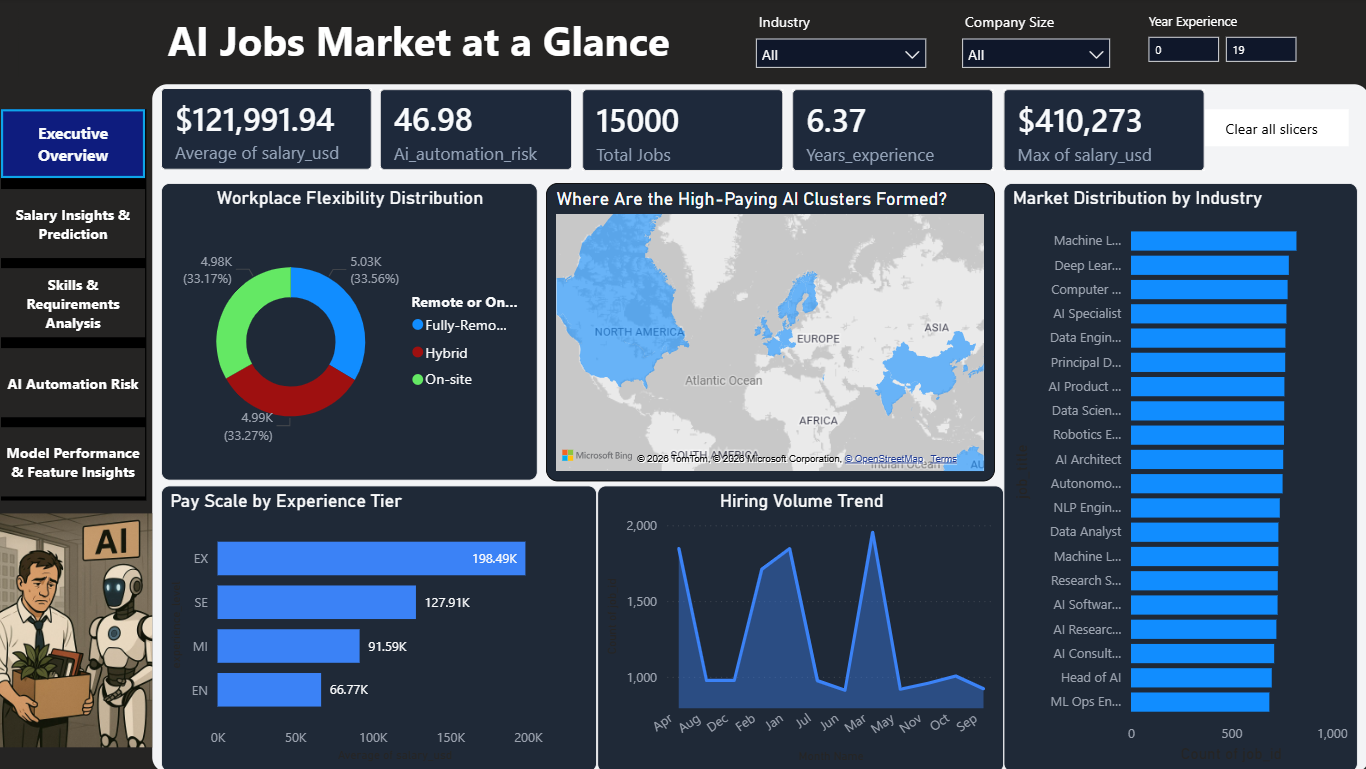

The dashboard page shown, as its layout file describes it:
{"tool":"powerbi","page":{"name":"Executive Overview","canvas":[1280,720],"ordinal":0},"visuals":[{"type":"cardVisual","fields":{"Data":["CountNonNull(ai_jobs_predictions_final.job_id)"]},"box":[200.3,84.5,126.7,71.2],"z":0},{"type":"shape","box":[145.6,80.5,1131.8,640],"z":1000},{"type":"clusteredBarChart","title":"Market Distribution by Industry","fields":{"Category":["ai_jobs_predictions_final.job_title"],"Y":["Count(ai_jobs_predictions_final.job_id)"]},"box":[937.6,172.5,329.6,548],"z":2000},{"type":"clusteredBarChart","title":"Pay Scale by Experience Tier","fields":{"Category":["ai_jobs_predictions_final.experience_level"],"Y":["Avg(ai_jobs_predictions_final.salary_usd)"]},"box":[153.5,453.5,405.8,266.3],"z":3000},{"type":"donutChart","title":"Workplace Flexibility Distribution","fields":{"Y":["CountNonNull(ai_jobs_predictions_final.job_id)"],"Category":["ai_jobs_predictions_final.Remote or Onsite"]},"box":[153.5,172.1,350,276.7],"z":4000},{"type":"areaChart","title":"Hiring Volume Trend","fields":{"Category":["ai_jobs_predictions_final.Month Name"],"Y":["CountNonNull(ai_jobs_predictions_final.job_id)"]},"box":[559.1,454,378.8,267.2],"z":5000},{"type":"slicer","fields":{"Values":["ai_jobs_predictions_final.years_experience"]},"box":[1059.3,8.6,179,79],"z":6000},{"type":"slicer","fields":{"Values":["ai_jobs_predictions_final.company_size"]},"box":[887.9,8.4,158,71.2],"z":7000},{"type":"slicer","fields":{"Values":["ai_jobs_predictions_final.industry"]},"box":[696.1,8.4,178.6,71.2],"z":8000},{"type":"actionButton","box":[1115.2,103.5,143.1,34.5],"z":9000},{"type":"pageNavigator","box":[4.7,103.5,134.9,364],"z":10000},{"type":"textbox","box":[20.9,9,675.9,64.3],"z":11000},{"type":"filledMap","title":"Where Are the High-Paying AI Clusters Formed?","fields":{"Category":["ai_jobs_predictions_final.company_location"],"Series":["ai_jobs_predictions_final.job_title"]},"box":[511.6,172.1,417.4,277.9],"z":12000},{"type":"cardVisual","fields":{"Data":["Avg(ai_jobs_predictions_final.salary_usd)"]},"box":[153.5,83.7,196.7,76.1],"z":13000},{"type":"cardVisual","fields":{"Data":["Avg(ai_jobs_predictions_final.ai_automation_risk)"]},"box":[357,84.9,179.1,75.6],"z":14000},{"type":"cardVisual","fields":{"Data":["Avg(ai_jobs_predictions_final.years_experience)"]},"box":[741,85,187.8,76.1],"z":15000},{"type":"cardVisual","fields":{"Data":["CountNonNull(ai_jobs_predictions_final.job_id)"]},"box":[545.6,85,187.8,76.1],"z":16000},{"type":"cardVisual","fields":{"Data":["Max(ai_jobs_predictions_final.salary_usd)"]},"box":[937.7,85,187.8,76.1],"z":17000},{"type":"image","box":[0,467,145.3,241.3],"z":18000}]}

Visuals, with their boxes in screenshot pixels (x1, y1, x2, y2), scaled from the page's 1280x720 canvas onto the 1366x769 screenshot:
cardVisual - CountNonNull(ai_jobs_predictions_final.job_id): l=214, t=90, r=349, b=166
shape: l=155, t=86, r=1363, b=768
"Market Distribution by Industry" clusteredBarChart: l=1001, t=184, r=1352, b=768
"Pay Scale by Experience Tier" clusteredBarChart: l=164, t=484, r=597, b=768
"Workplace Flexibility Distribution" donutChart: l=164, t=184, r=537, b=479
"Hiring Volume Trend" areaChart: l=597, t=485, r=1001, b=768
slicer - ai_jobs_predictions_final.years_experience: l=1130, t=9, r=1321, b=94
slicer - ai_jobs_predictions_final.company_size: l=948, t=9, r=1116, b=85
slicer - ai_jobs_predictions_final.industry: l=743, t=9, r=933, b=85
actionButton: l=1190, t=111, r=1343, b=147
pageNavigator: l=5, t=111, r=149, b=499
textbox: l=22, t=10, r=744, b=78
"Where Are the High-Paying AI Clusters Formed?" filledMap: l=546, t=184, r=991, b=481
cardVisual - Avg(ai_jobs_predictions_final.salary_usd): l=164, t=89, r=374, b=171
cardVisual - Avg(ai_jobs_predictions_final.ai_automation_risk): l=381, t=91, r=572, b=171
cardVisual - Avg(ai_jobs_predictions_final.years_experience): l=791, t=91, r=991, b=172
cardVisual - CountNonNull(ai_jobs_predictions_final.job_id): l=582, t=91, r=783, b=172
cardVisual - Max(ai_jobs_predictions_final.salary_usd): l=1001, t=91, r=1201, b=172
image: l=0, t=499, r=155, b=757
